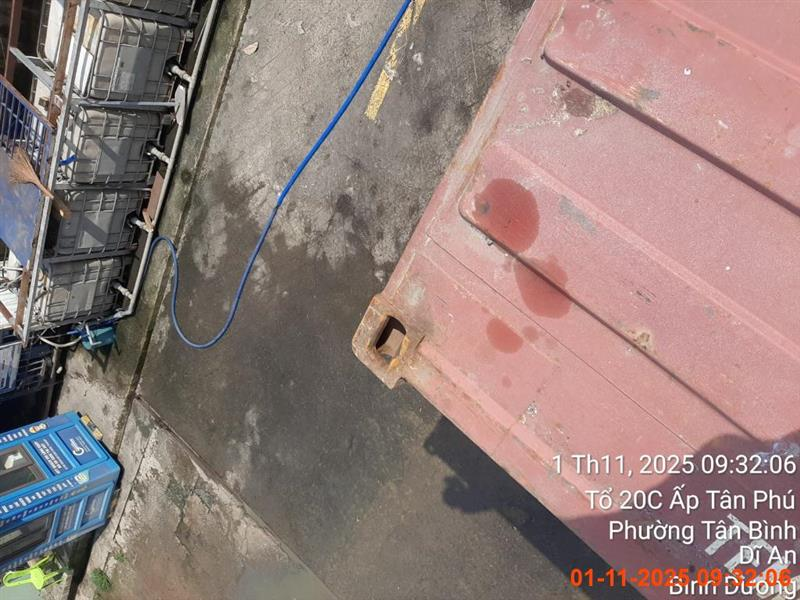broken: (350, 0, 797, 599)
